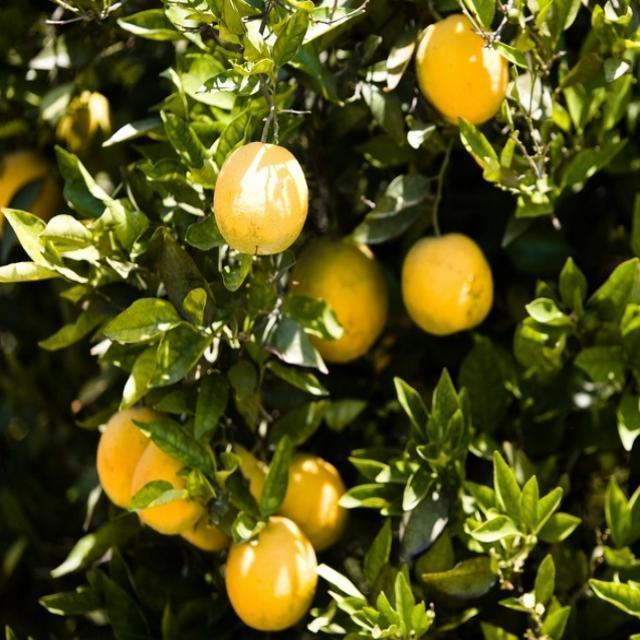Orange: (272, 227, 396, 373), (217, 507, 334, 638), (204, 136, 310, 278), (406, 15, 514, 140), (84, 394, 180, 522), (399, 227, 502, 342), (258, 450, 354, 566), (130, 420, 224, 538), (55, 89, 125, 178)
